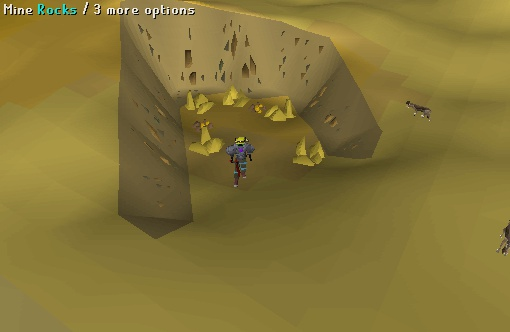gold: (285, 134, 337, 176), (180, 122, 232, 161), (261, 98, 305, 128)
